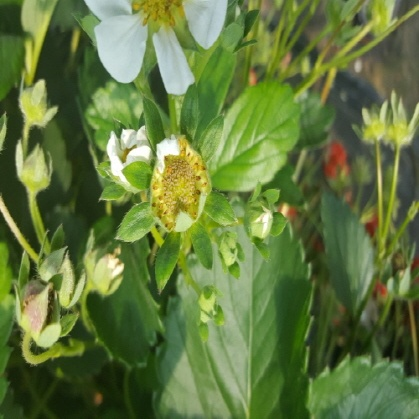Blossom_BT: (149, 187, 210, 284)
